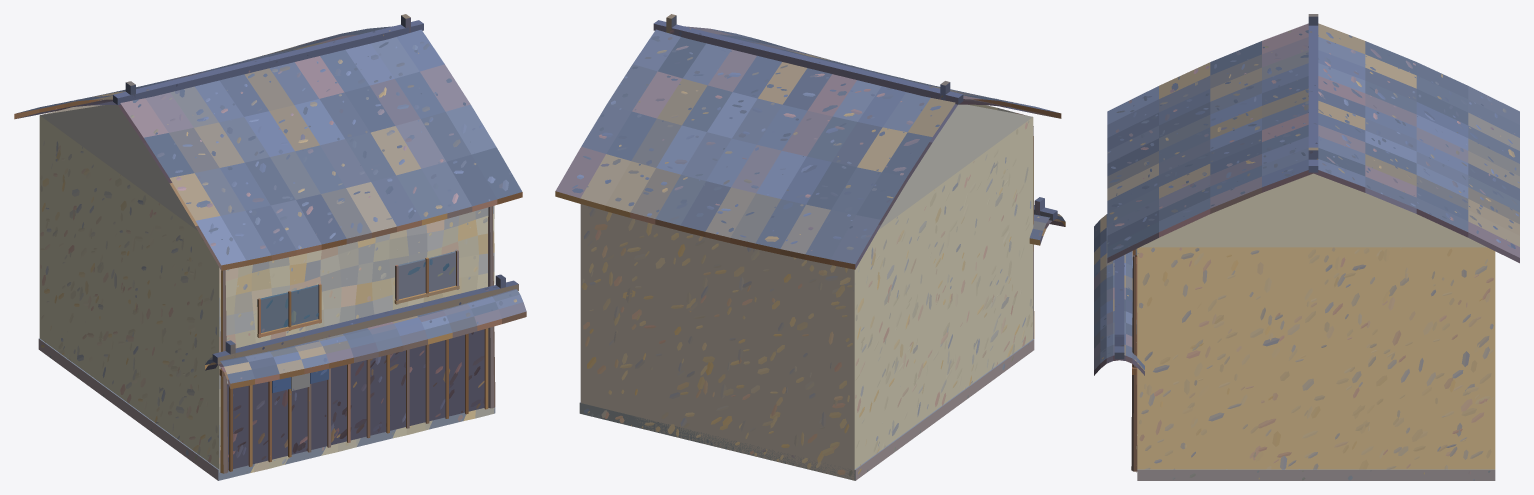
File: HK_Machiya_C.glb
3 views of the same model, side by side, from view 1: azimuth 30°, elevation 25°; view 2: azimuth 150°, elevation 25°; view 3: azimuth 270°, elevation 25° (orthographic).
Visible parts, largest first — view 1: HK_Machiya_C; view 2: HK_Machiya_C; view 3: HK_Machiya_C.
Part boxes in pixels (bbox=[...]): HK_Machiya_C: bbox=[14, 14, 526, 480]; HK_Machiya_C: bbox=[555, 14, 1065, 480]; HK_Machiya_C: bbox=[1094, 14, 1519, 480].
Bounding box in the file's own units: 9.36 × 9.7 × 11.3.
